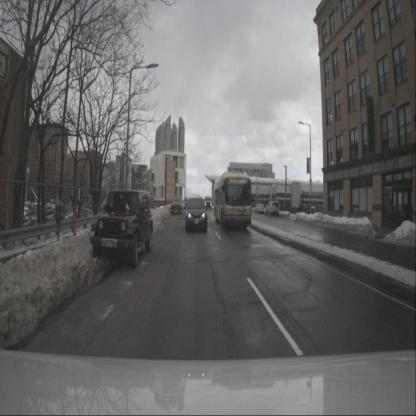movable_object-trafficcone: (71, 200, 77, 242), (374, 212, 377, 231)
vehicle-bus-rigid: (213, 171, 252, 229)
vehicle-car: (90, 189, 153, 268), (186, 197, 208, 231), (265, 201, 279, 217), (170, 196, 182, 214), (204, 196, 212, 209), (254, 204, 264, 214), (178, 199, 185, 209), (184, 198, 188, 206)
